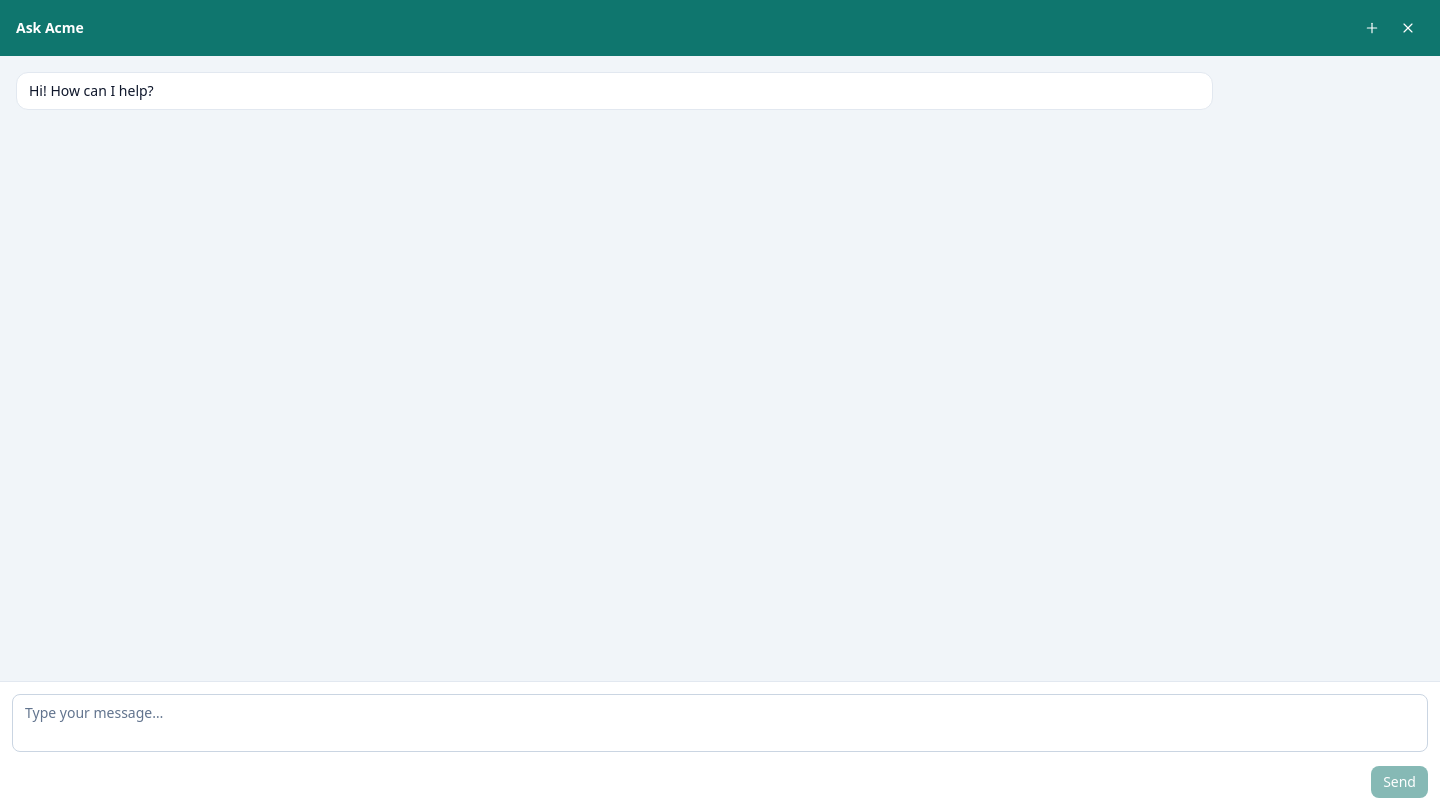
Test case: WidgetChat › does not retry a not_found on a turn that sent no conversation id
Expected: the text "Hi! How can I help?" is shown, [29,81,154,100]
Type "hello" into the text box with placeholder "Type your message…".
click(720, 723); type("hello")  # box [12,694,1428,752]
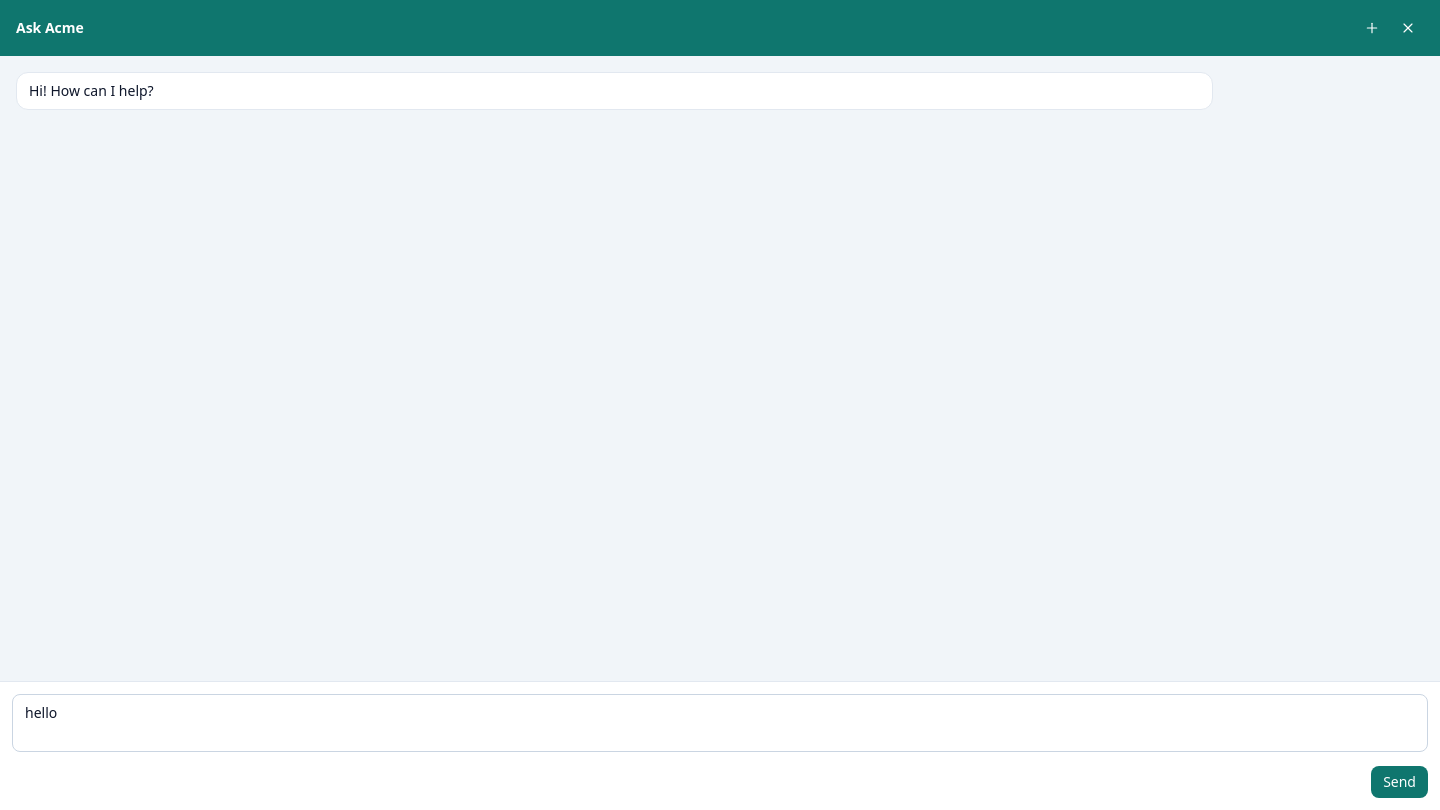
Click the button "Send".
click(1400, 782)  # box [1371,766,1428,798]
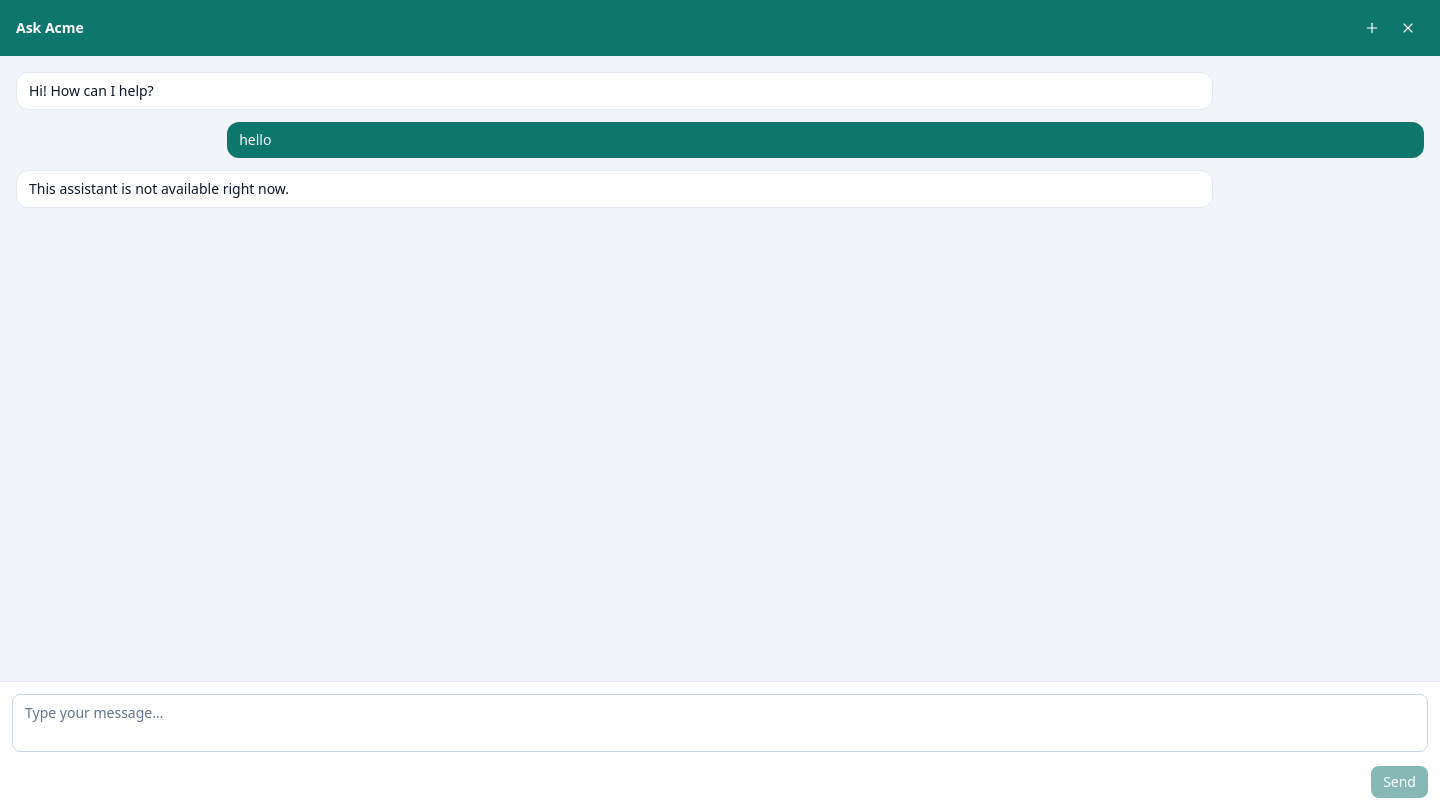
Expected: the text "This assistant is not available right now." is shown, [29,179,289,198]
